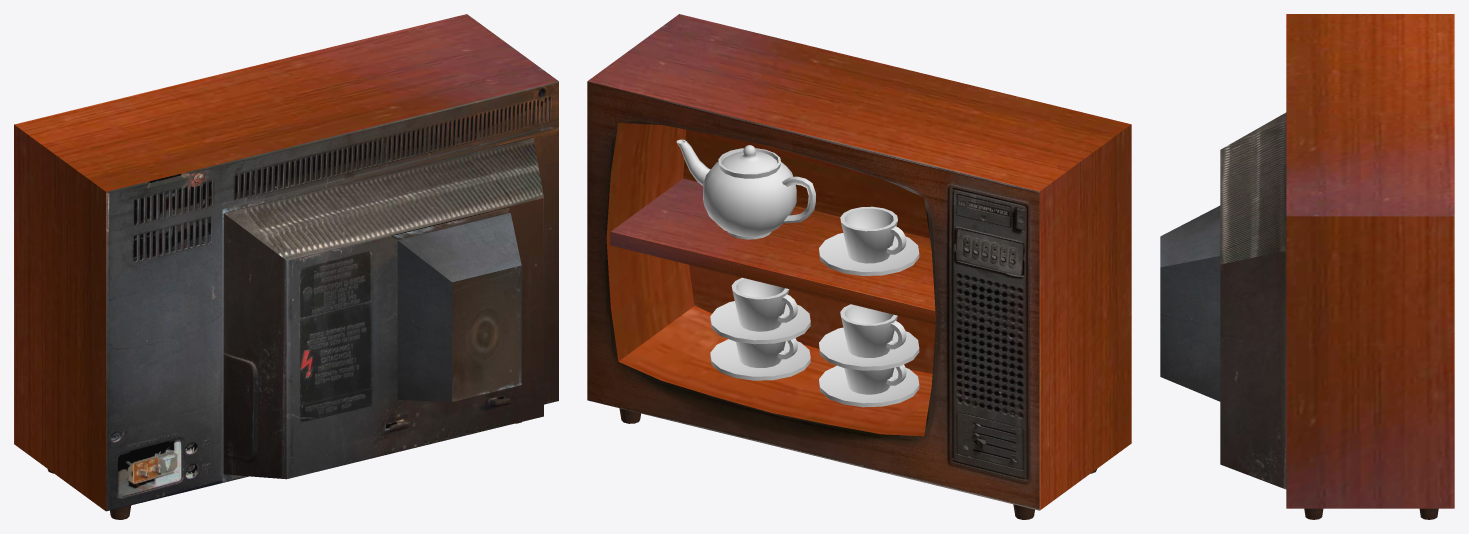
Rendered from TV1_Teapot.fbx.
3 renders of one model, left to right at view 1: azimuth 30°, elevation 25°; view 2: azimuth 150°, elevation 25°; view 3: azimuth 270°, elevation 25°, orthographic. The views are drawn at different scales.
Parts seen in each view (by area): view 1: Cube.013; view 2: Cube.013, Cylinder.008, Cylinder.013, Cylinder.002, Cylinder; view 3: Cube.013.
Part boxes in pixels (box(x1,y1,x2,y2)): Cube.013: box(14, 14, 558, 519); Cube.013: box(587, 14, 1131, 519); Cylinder.008: box(819, 304, 919, 407); Cylinder.013: box(710, 277, 810, 380); Cylinder.002: box(676, 139, 815, 239); Cylinder: box(819, 206, 919, 275); Cube.013: box(1160, 14, 1454, 519).
Bounding box in the file's own units: 128 × 92.59 × 78.88.
Materials: 2 (1 with a texture image).
